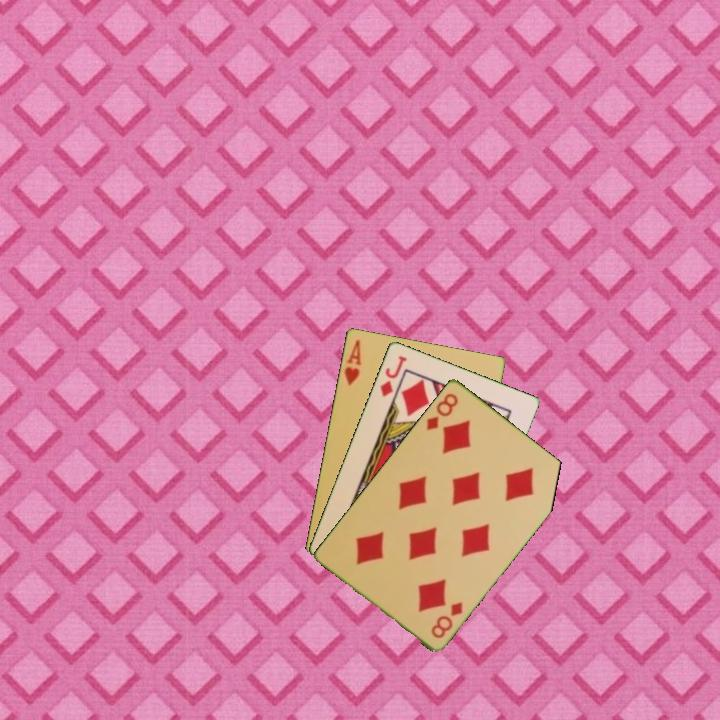8d: (422, 389, 461, 433), (427, 598, 466, 641)
Ah: (340, 335, 364, 388)
Jd: (376, 352, 410, 399)
